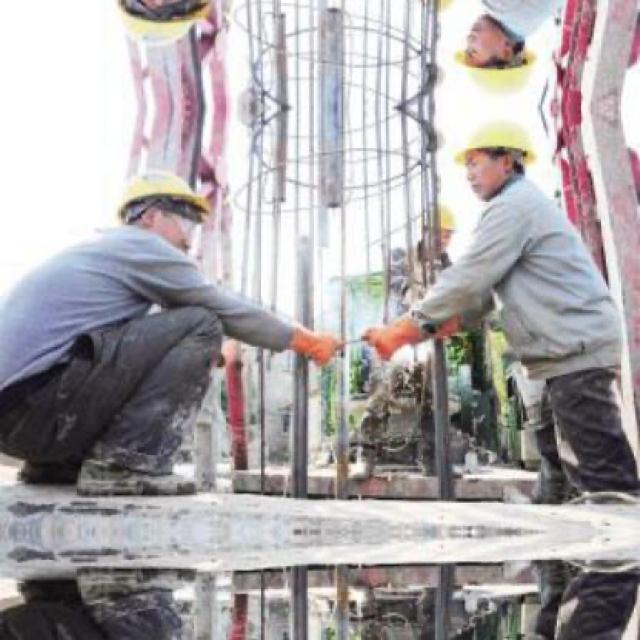helmet: (105, 162, 226, 256), (451, 18, 551, 104), (451, 114, 551, 199), (103, 0, 226, 56)
